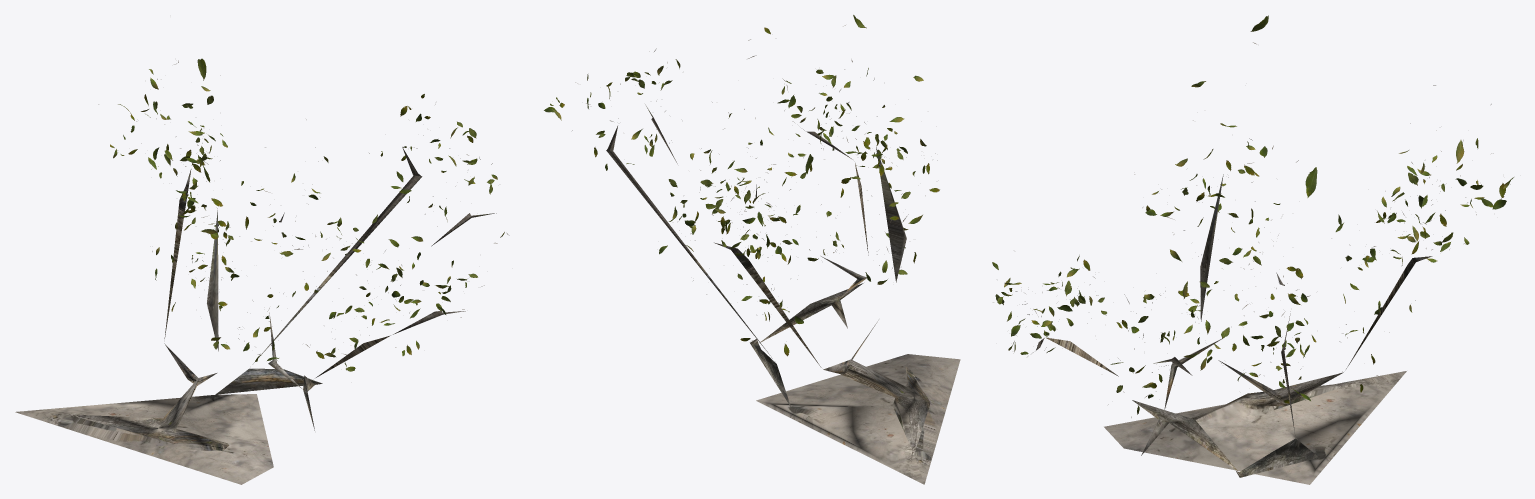
File: island_tree_03.glb
The picture shows the model from 3 angles, left to right: view 1: azimuth 30°, elevation 25°; view 2: azimuth 150°, elevation 25°; view 3: azimuth 270°, elevation 25°; orthographic projection. The views are drawn at different scales.
Parts seen in each view (by area): view 1: island_tree_03_LOD0; view 2: island_tree_03_LOD0; view 3: island_tree_03_LOD0.
Boxes of the visible parts, x1,y1,x2,y2 form: island_tree_03_LOD0: (15, 58, 509, 484); island_tree_03_LOD0: (544, 15, 960, 484); island_tree_03_LOD0: (992, 15, 1513, 484).
Size of the model in its own units: 2.83 by 2.45 by 2.75.
Materials: 3 (3 with a texture image).
